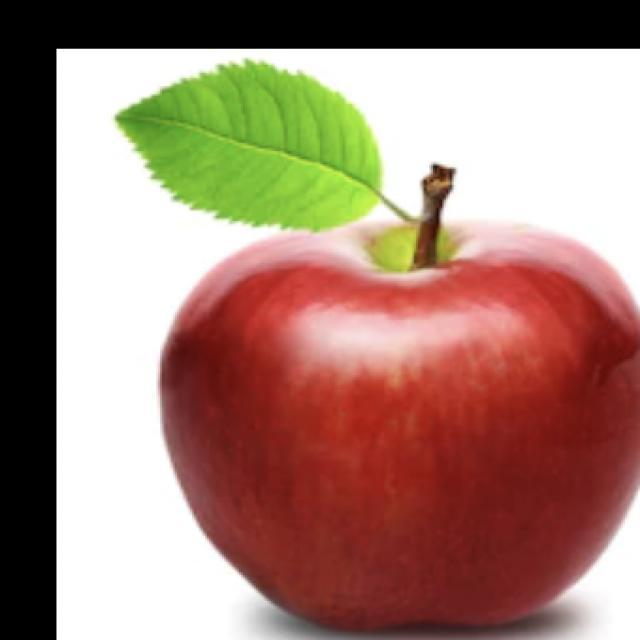Fresh Apple: (208, 216, 640, 639)
